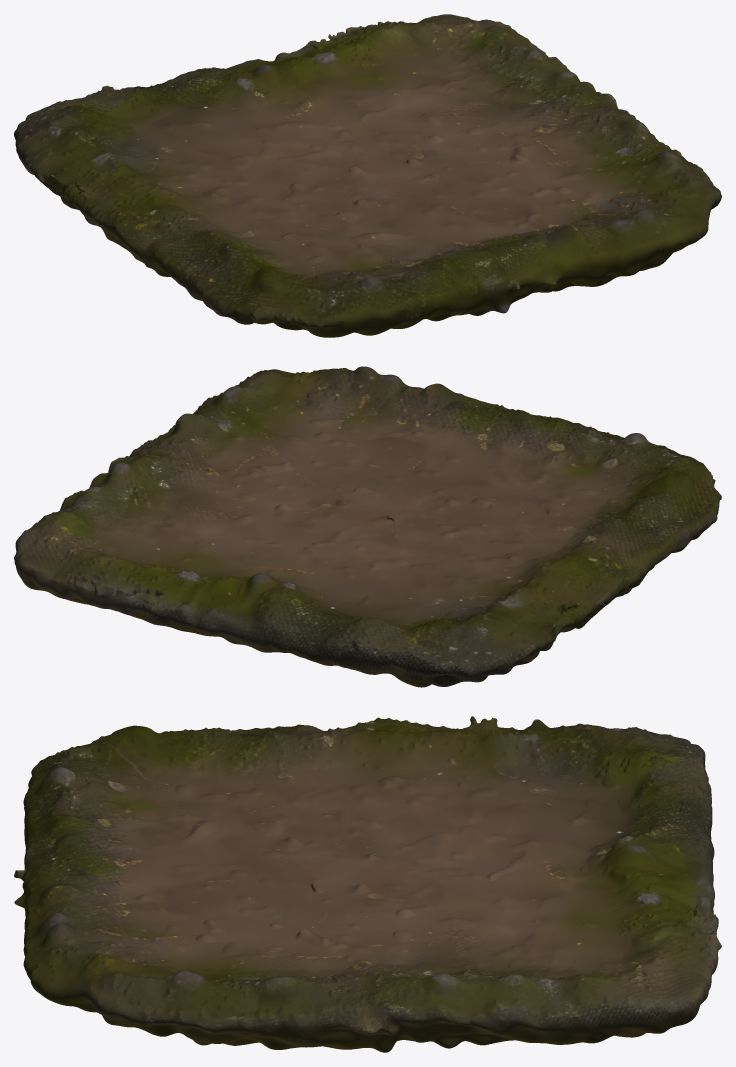
The model's file is ash_road_surface.glb.
3 views of the same model, one above another, from view 1: azimuth 30°, elevation 25°; view 2: azimuth 150°, elevation 25°; view 3: azimuth 270°, elevation 25° (orthographic). The views are drawn at different scales.
Parts seen in each view (by area): view 1: model; view 2: model; view 3: model.
Boxes of the visible parts, <box> form: model: <box>14,14,721,337</box>; model: <box>14,366,721,687</box>; model: <box>14,716,721,1052</box>.
Bounding box in the file's own units: 1.9 × 0.2529 × 1.9.
1 material, 1 textured.
